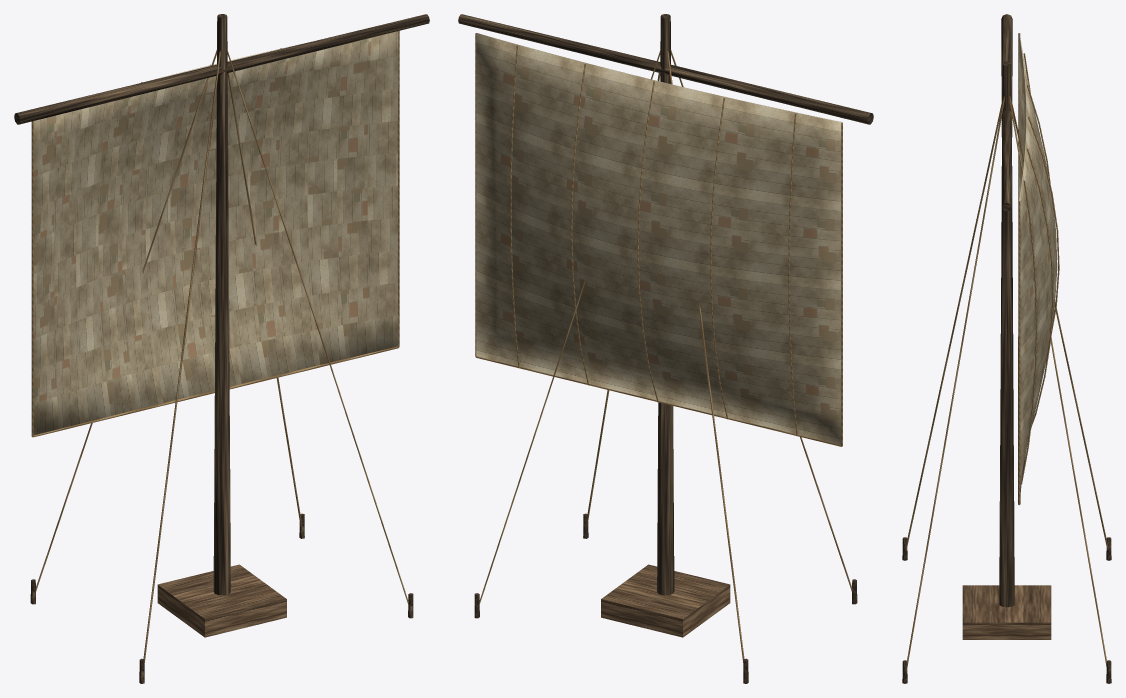
The model's file is vela_quadra_sartiame.gltf.
3 renders of one model, left to right at view 1: azimuth 30°, elevation 25°; view 2: azimuth 150°, elevation 25°; view 3: azimuth 270°, elevation 25°, orthographic. The views are drawn at different scales.
Visible parts, largest first — view 1: vela_quadra_sartiame; view 2: vela_quadra_sartiame; view 3: vela_quadra_sartiame.
Boxes of the visible parts, bbox=[...] form: vela_quadra_sartiame: bbox=[14, 14, 429, 683]; vela_quadra_sartiame: bbox=[458, 14, 873, 683]; vela_quadra_sartiame: bbox=[902, 14, 1111, 683].
Size of the model in its own units: 6.5 by 9 by 3.06.
Materials: 4 (4 with a texture image).
